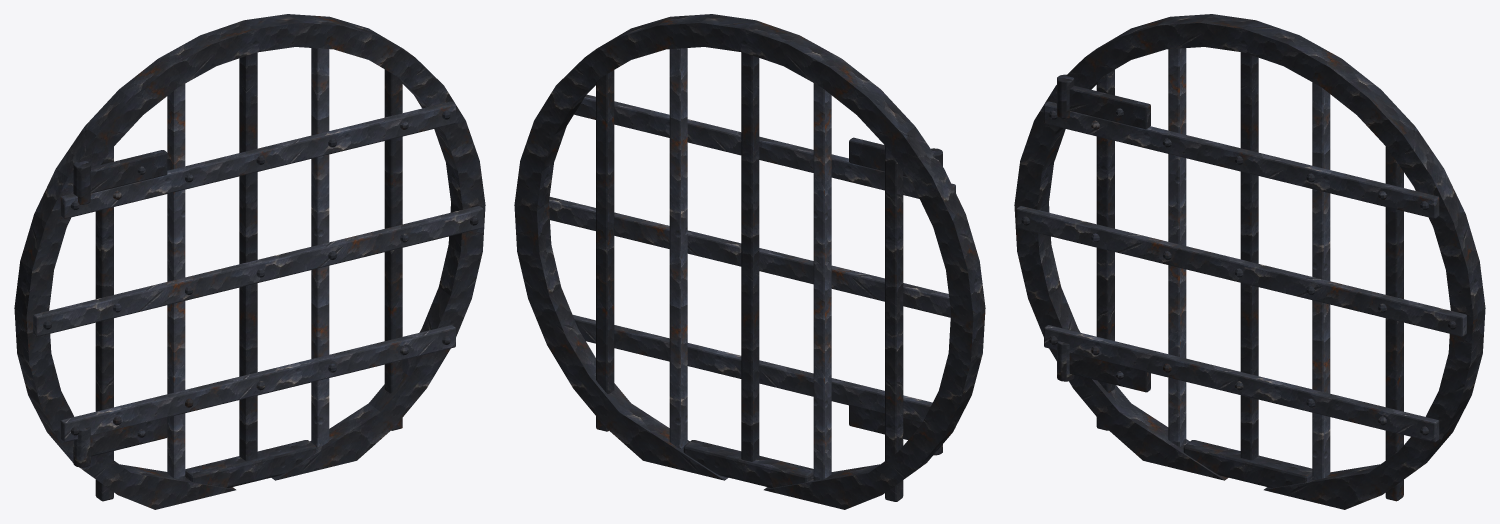
The model's file is gate_iron.glb.
3 views of the same model, side by side, from view 1: azimuth 30°, elevation 25°; view 2: azimuth 150°, elevation 25°; view 3: azimuth 330°, elevation 25° (orthographic).
Visible parts, largest first — view 1: model; view 2: model; view 3: model.
Part boxes in pixels (<box>): model: <box>14,14,485,509</box>; model: <box>514,14,985,509</box>; model: <box>1014,14,1485,509</box>.
Bounding box in the file's own units: 1.54 × 1.46 × 0.1103.
Materials: 3 (3 with a texture image).
